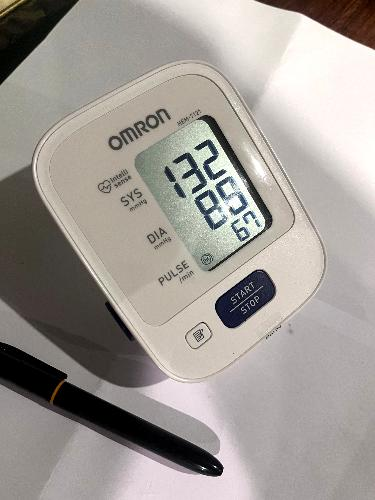bpm: (123, 103, 287, 279)
